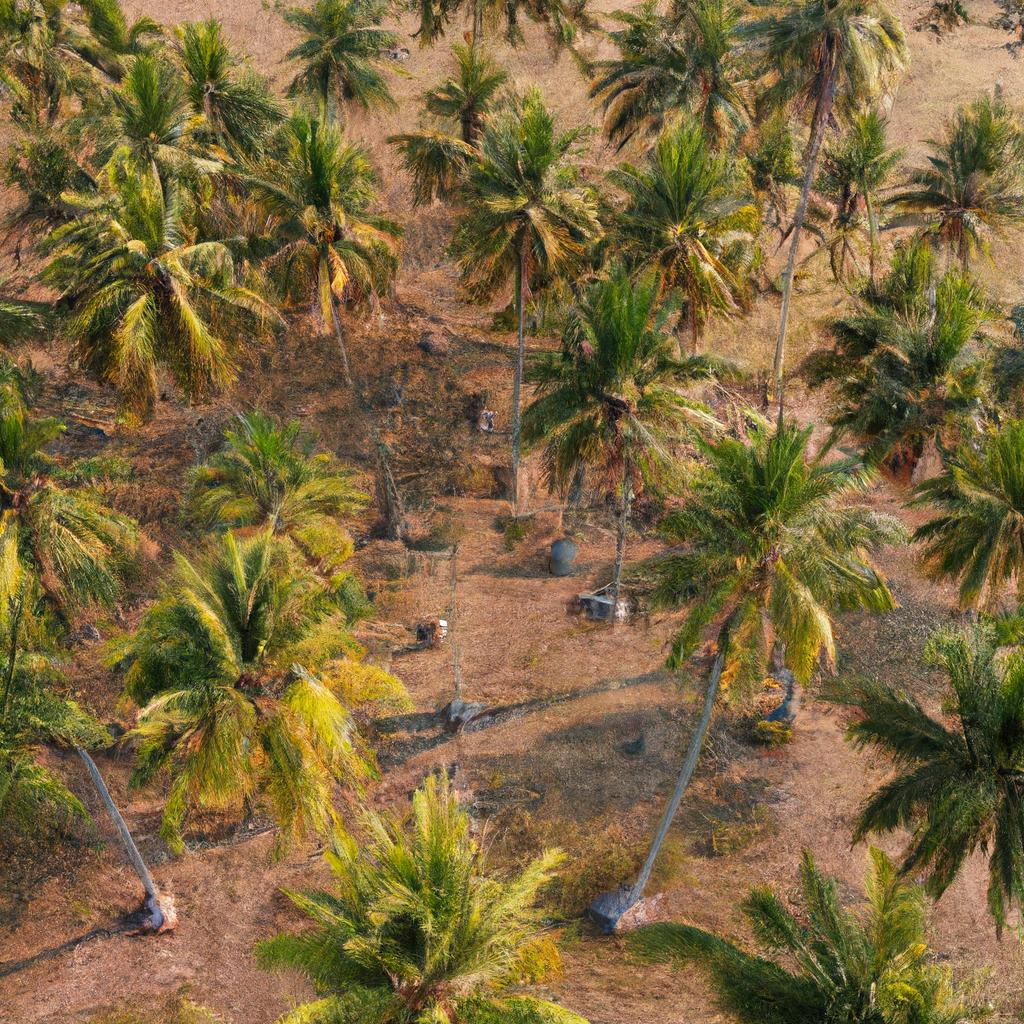coconut_tree: (113, 547, 396, 821), (639, 420, 894, 694), (296, 810, 591, 1023), (53, 189, 243, 410), (235, 145, 405, 326), (445, 118, 618, 283)
